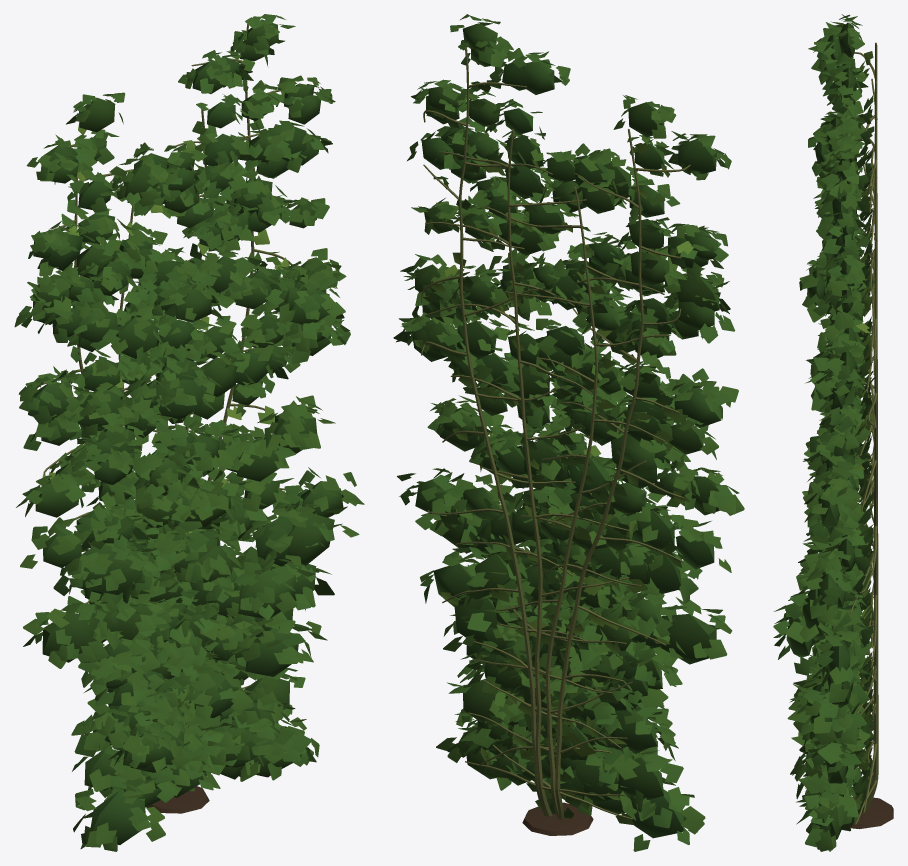
File: climber_ivy_40.glb
The picture shows the model from 3 angles, left to right: view 1: azimuth 30°, elevation 25°; view 2: azimuth 150°, elevation 25°; view 3: azimuth 270°, elevation 25°; orthographic projection. The views are drawn at different scales.
Parts seen in each view (by area): view 1: Sammel Pflanze, Sammel Blatt, Sammel Putz; view 2: Sammel Pflanze, Sammel Blatt, Sammel Putz; view 3: Sammel Pflanze, Sammel Blatt, Sammel Putz.
Boxes of the visible parts, bbox=[...] form: Sammel Pflanze: bbox=[14, 14, 364, 851]; Sammel Blatt: bbox=[28, 19, 343, 844]; Sammel Putz: bbox=[40, 24, 300, 813]; Sammel Pflanze: bbox=[393, 14, 744, 851]; Sammel Blatt: bbox=[412, 23, 720, 838]; Sammel Putz: bbox=[421, 47, 690, 835]; Sammel Pflanze: bbox=[773, 14, 874, 851]; Sammel Blatt: bbox=[786, 22, 857, 839]; Sammel Putz: bbox=[849, 42, 893, 829].
Bounding box in the file's own units: 1.87 × 4.17 × 0.5579.
